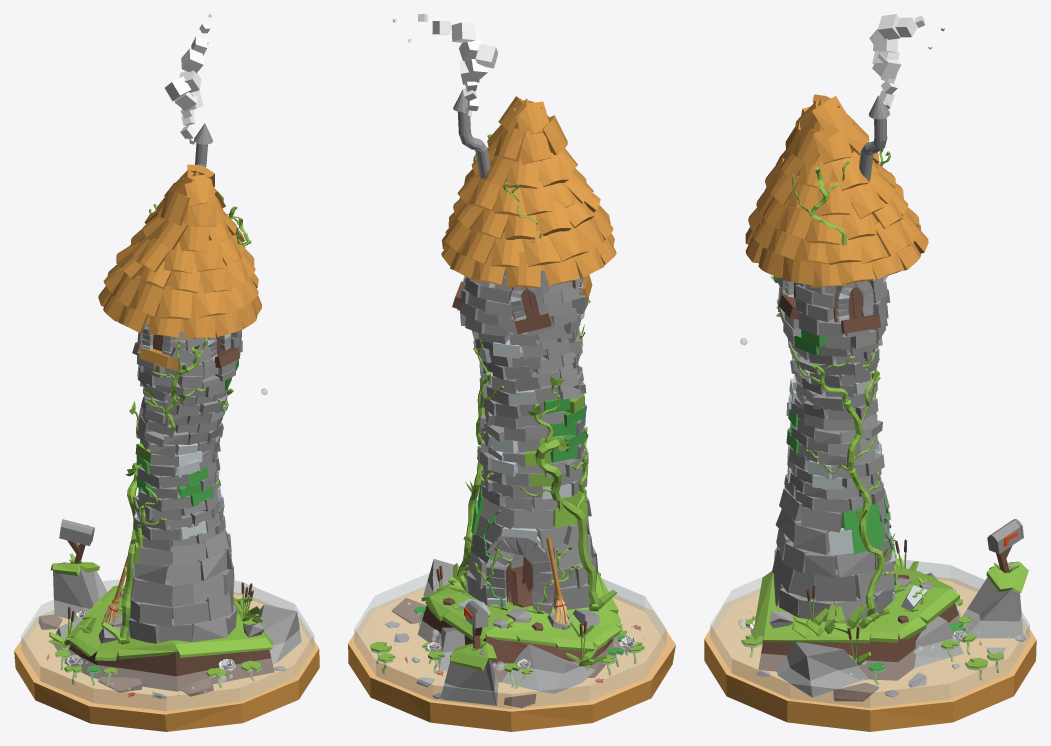
File: Tower.glb
3 views of the same model, side by side, from view 1: azimuth 30°, elevation 25°; view 2: azimuth 150°, elevation 25°; view 3: azimuth 270°, elevation 25° (orthographic). The views are drawn at different scales.
Visible parts, largest first — view 1: group922971525, group892489207, group1551618610, group1117770857, group671550970, group1283394394, group837749699, group2041179677, group841947087, group1037850693, group2128649465, group755391778 (+25 smaller); view 2: group922971525, group892489207, group1551618610, group1117770857, group671550970, group1784875363, group837749699, group625878066, group970688600, group1530372510, group777862977, group275722457 (+26 smaller); view 3: group922971525, group892489207, group1551618610, group1117770857, group671550970, group1283394394, group323000874, group379051382, group225784441, group1037850693, group388644916, group1046362835 (+29 smaller).
Boxes of the visible parts, box(x1,y1,x2,y2) form: group922971525: box(14, 592, 319, 731); group892489207: box(21, 578, 314, 710); group1551618610: box(64, 585, 274, 691); group1117770857: box(98, 286, 261, 338); group671550970: box(50, 562, 107, 619); group1283394394: box(253, 604, 301, 664); group837749699: box(120, 462, 139, 638); group2041179677: box(159, 286, 192, 319); group841947087: box(133, 579, 172, 606); group1037850693: box(59, 519, 94, 563); group2128649465: box(129, 282, 164, 316); group755391778: box(192, 284, 227, 317); group922971525: box(348, 586, 675, 731); group892489207: box(354, 573, 666, 708); group1551618610: box(418, 572, 621, 682); group1117770857: box(441, 233, 616, 287); group671550970: box(441, 640, 498, 705); group1784875363: box(502, 644, 595, 693); group837749699: box(535, 439, 599, 603); group625878066: box(522, 230, 561, 266); group970688600: box(457, 111, 490, 178); group1530372510: box(520, 182, 555, 215); group777862977: box(491, 232, 524, 267); group275722457: box(548, 223, 587, 261); group922971525: box(704, 577, 1036, 731); group892489207: box(710, 559, 1029, 707); group1551618610: box(752, 564, 959, 680); group1117770857: box(745, 222, 928, 287); group671550970: box(963, 561, 1028, 638); group1283394394: box(777, 642, 868, 697); group323000874: box(914, 616, 963, 667); group379051382: box(848, 468, 884, 616); group225784441: box(815, 569, 856, 601); group1037850693: box(987, 519, 1023, 573); group388644916: box(836, 281, 873, 323); group1046362835: box(813, 128, 852, 163).
Bounding box in the file's own units: 1.36 × 2.99 × 1.33.
